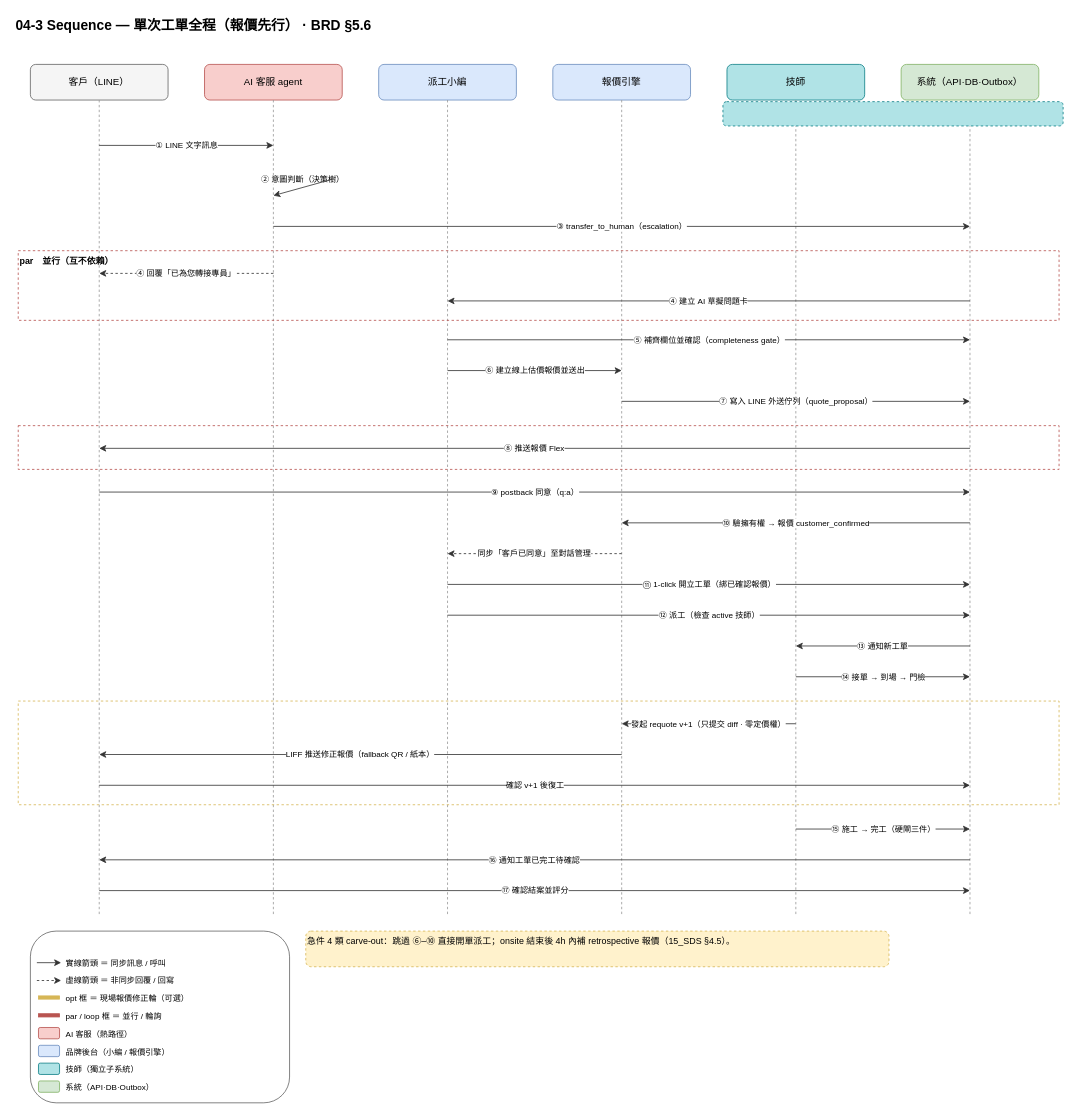
Image size: 1077x1117. Some labels were removed from this diagram. The box of each missing label's shape, as (x1, y1, x2, y2) in pixels:
loop 背景輪詢（每 10 秒）: (17, 425, 1059, 469)
opt 現場與線上報價不符（估價誤差 / 加價 / 改項）: (17, 700, 1059, 805)
前置：技師須經技師平台核准 status ＝ active 方可被派工: (722, 101, 1063, 126)
圖例 Legend: (30, 930, 290, 1103)
